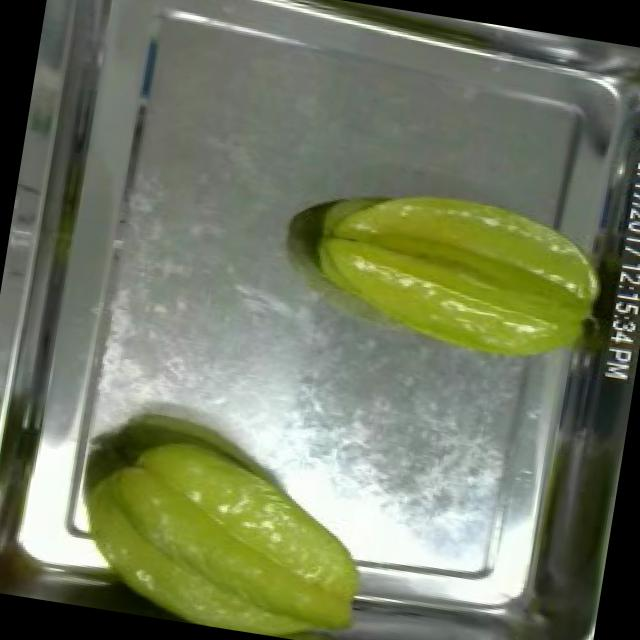fruit: (52, 412, 386, 640), (288, 161, 623, 382)
